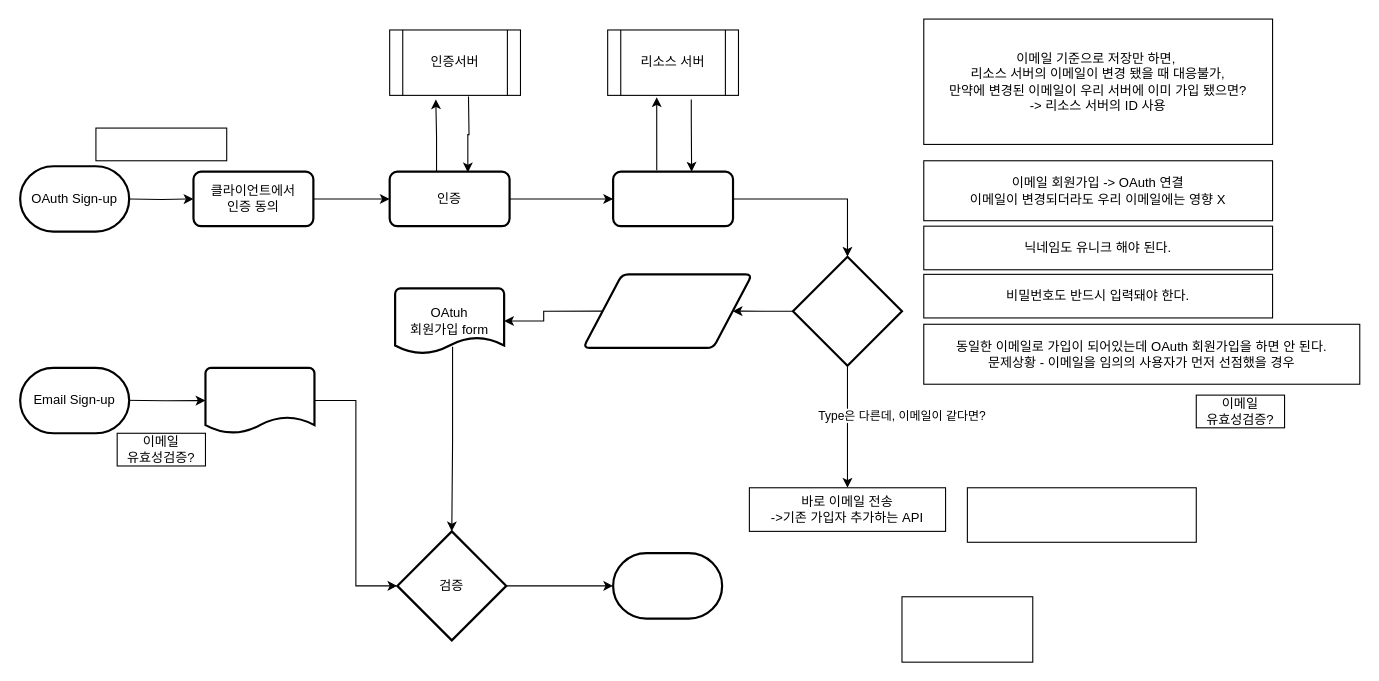
Some shapes in this 1379 by 681 pixel diagram are drawn without their labels. Here are the shapes that lost their labels. From the top down, the centre of each, then its label:
pixel 161 144: 이미 가입 되었으면?
pixel 672 198: 사용자조회
pixel 667 310: email 사용자 id 리소스 서버 타입
pixel 847 310: 검증(미구현)
pixel 259 400: 회원가입 form
pixel 1081 514: 클라이언트에 이메일 전송 요청 ->이메일 전송 API -> 기존 가입자 추가 API
pixel 667 585: 회원가입
pixel 967 629: updated
